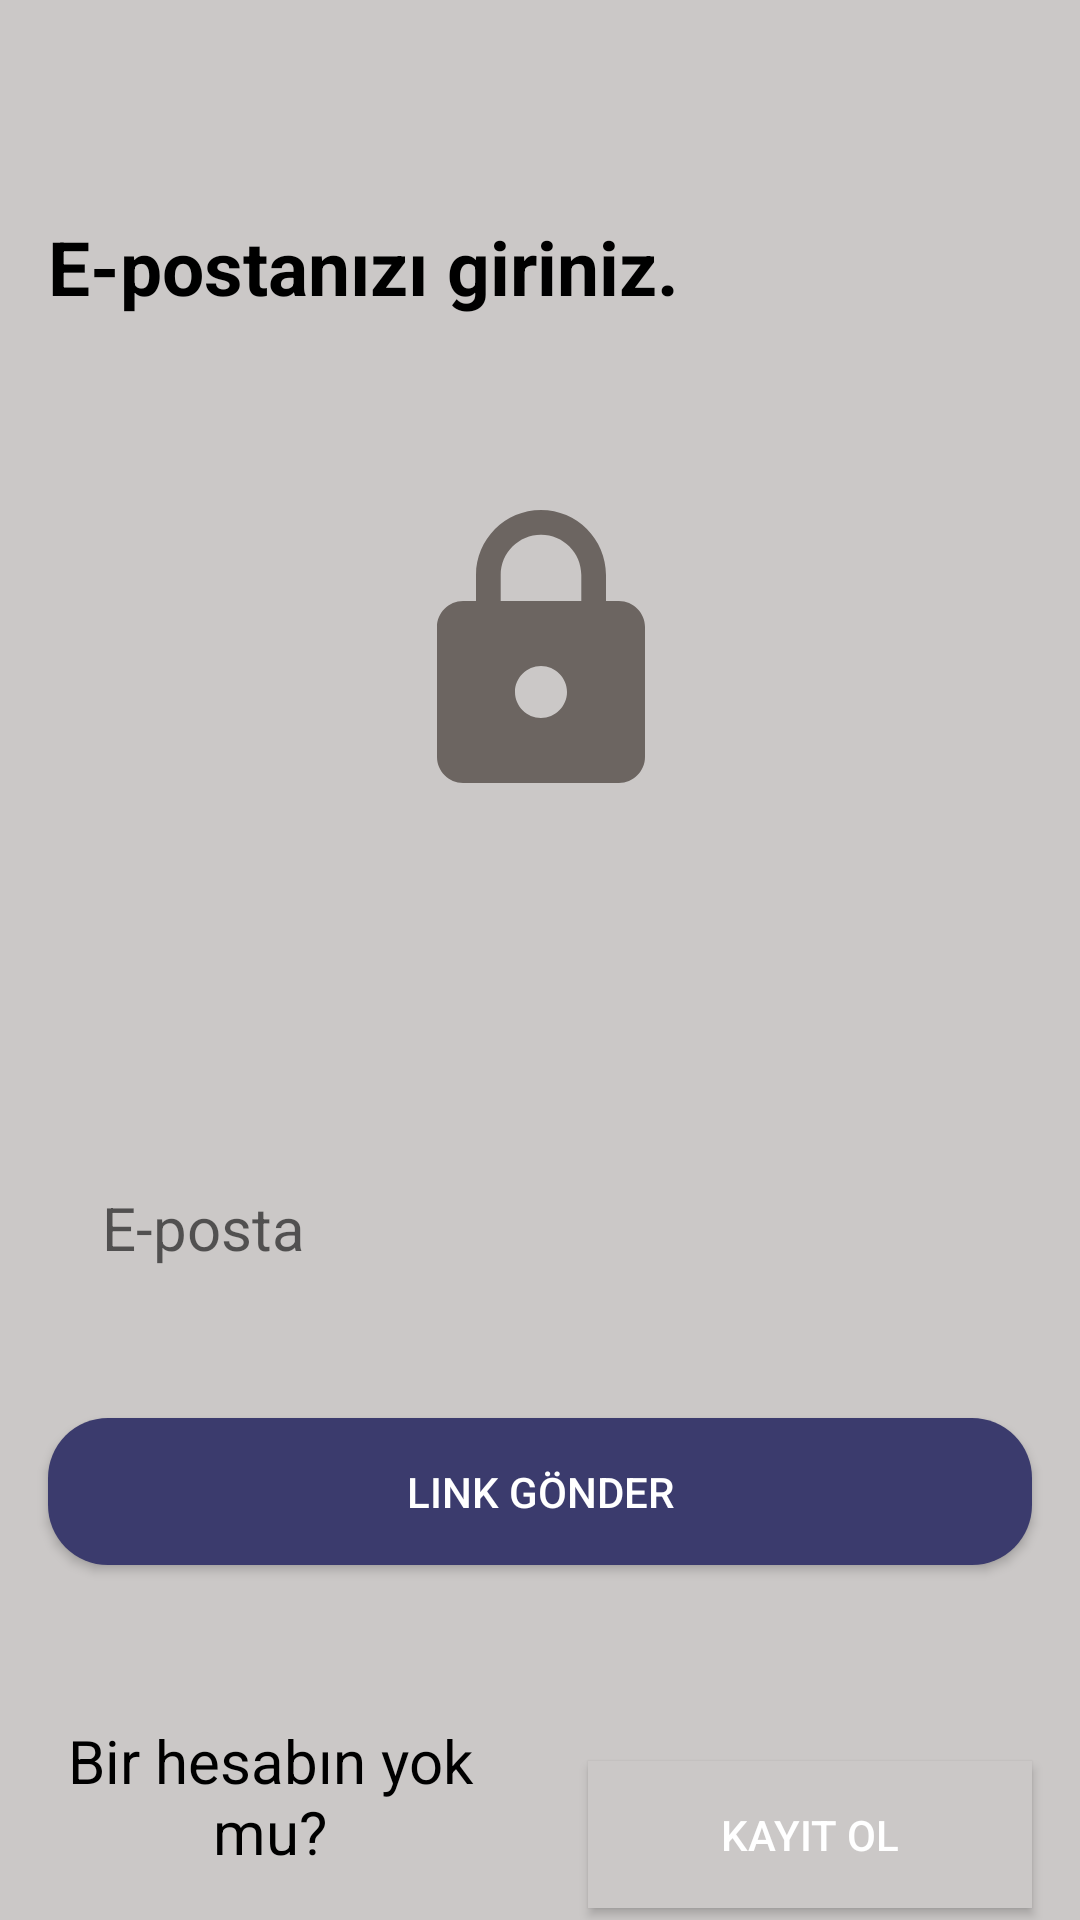

Icon bounding boxes for this 1080px x 1920px phone screenshot, format (x1,y1,x2,y2):
lock: (437,510,645,783)
